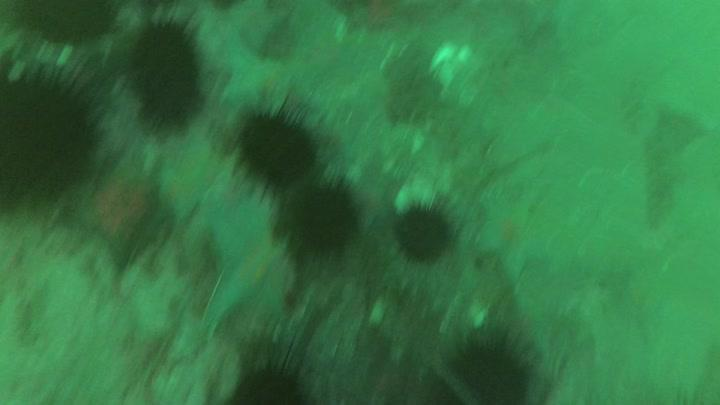urchin: (2, 52, 105, 200), (122, 14, 206, 117), (229, 100, 319, 191), (271, 178, 362, 260), (445, 330, 536, 405), (220, 352, 308, 405), (394, 205, 453, 265)
